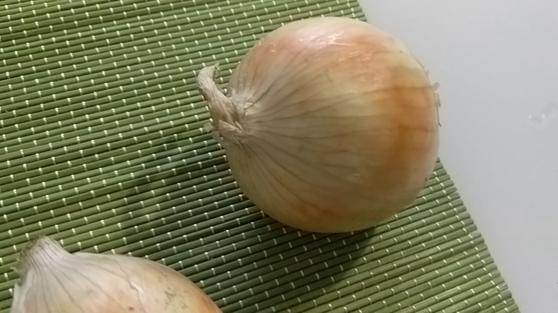onion: (200, 12, 447, 233), (9, 230, 222, 313)
